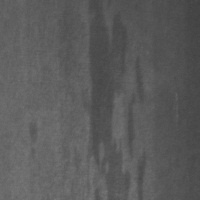inclusion: (84, 10, 147, 199), (24, 118, 43, 158)
